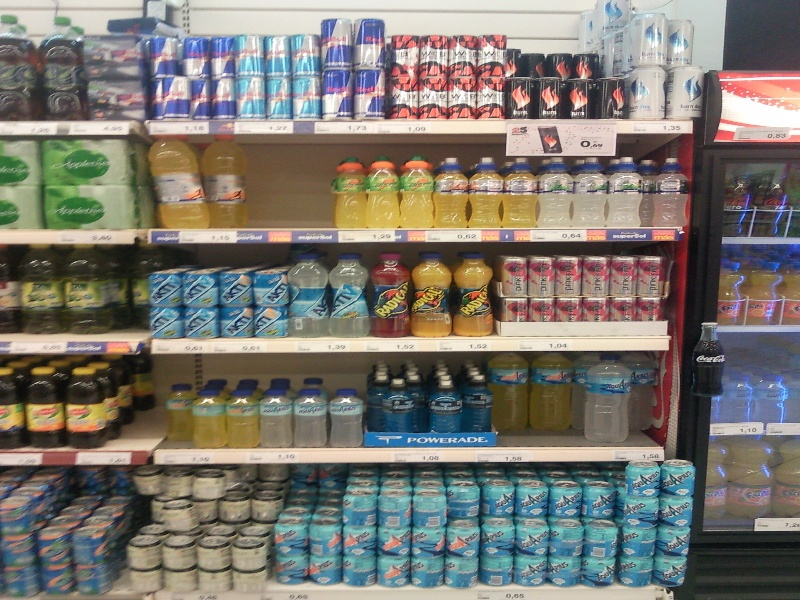lemonade: (145, 137, 217, 230), (725, 433, 772, 521), (450, 251, 496, 337), (408, 255, 454, 341), (399, 151, 437, 230), (433, 154, 470, 230), (691, 321, 728, 397), (332, 156, 368, 232), (469, 155, 504, 230), (325, 388, 367, 450), (367, 157, 401, 230), (293, 388, 332, 448), (259, 392, 298, 451), (747, 260, 782, 325), (460, 376, 494, 432), (432, 379, 463, 432), (382, 377, 412, 431)
